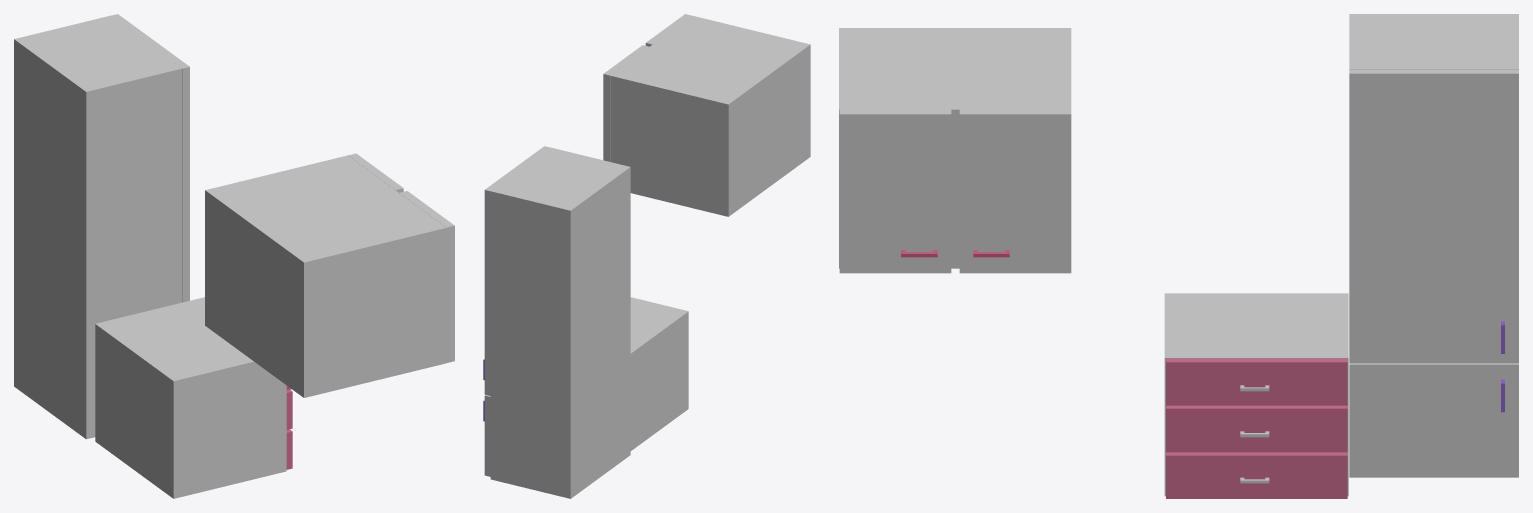
The model's file is Closet.fbx.
The picture shows the model from 3 angles, left to right: view 1: azimuth 30°, elevation 25°; view 2: azimuth 150°, elevation 25°; view 3: azimuth 270°, elevation 25°; orthographic projection. The views are drawn at different scales.
Visible parts, largest first — view 1: Closet, Closet.001, Closet.002; view 2: Closet, Closet.001, Closet.002; view 3: Closet, Closet.001, Closet.002.
Part boxes in pixels (x1,y1,x2,y2): Closet: [14, 14, 189, 439]; Closet.001: [205, 153, 454, 397]; Closet.002: [95, 297, 292, 498]; Closet: [483, 146, 630, 498]; Closet.001: [603, 14, 810, 216]; Closet.002: [630, 297, 688, 450]; Closet: [1349, 14, 1518, 477]; Closet.001: [839, 28, 1071, 273]; Closet.002: [1164, 293, 1348, 498].
Bounding box in the file's own units: 1.99 × 4.22 × 6.31.
